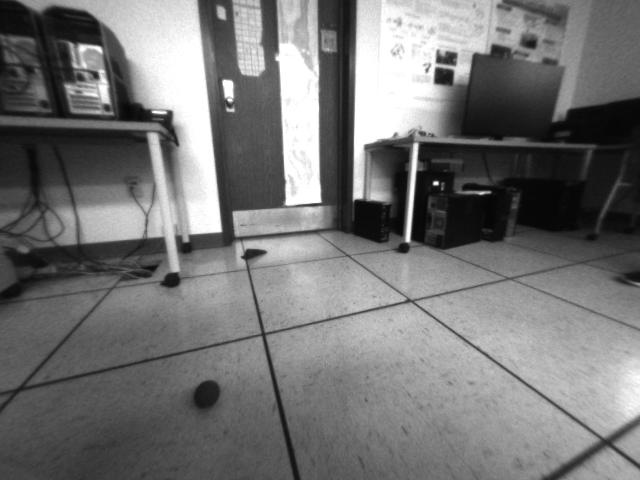dogtoy: (181, 372, 227, 417)
